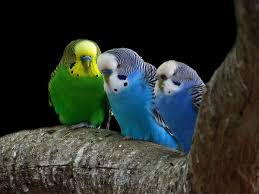budgie: (96, 47, 159, 150), (49, 36, 104, 135), (153, 59, 207, 157)
